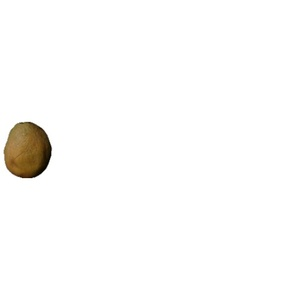mamão: (2, 120, 55, 180)
